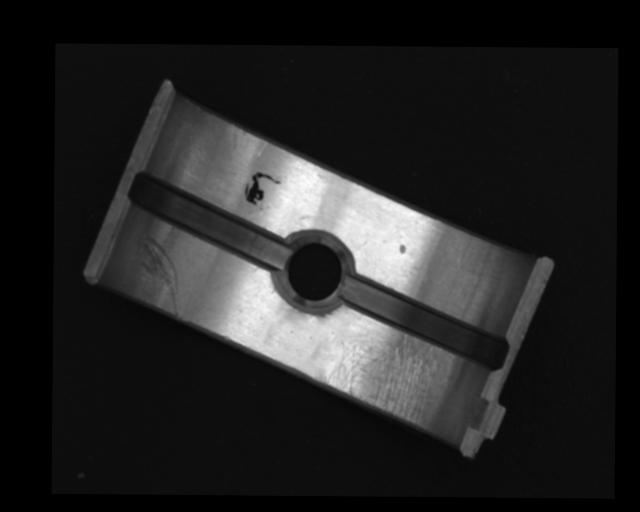blot: (244, 170, 283, 206)
bruise: (398, 243, 407, 254)
gap: (342, 274, 509, 371), (125, 171, 290, 268)
hole: (278, 233, 351, 307)
nick: (136, 233, 181, 318)
scratch: (320, 333, 457, 426)
